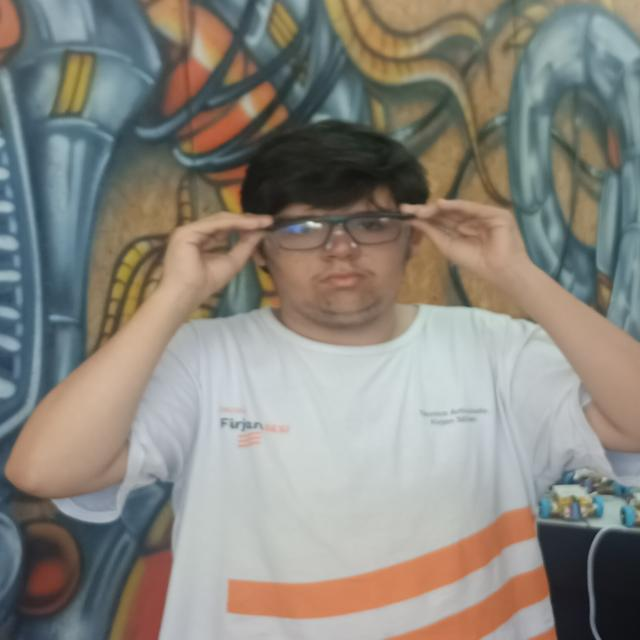oculos-epi: (268, 211, 414, 255)
